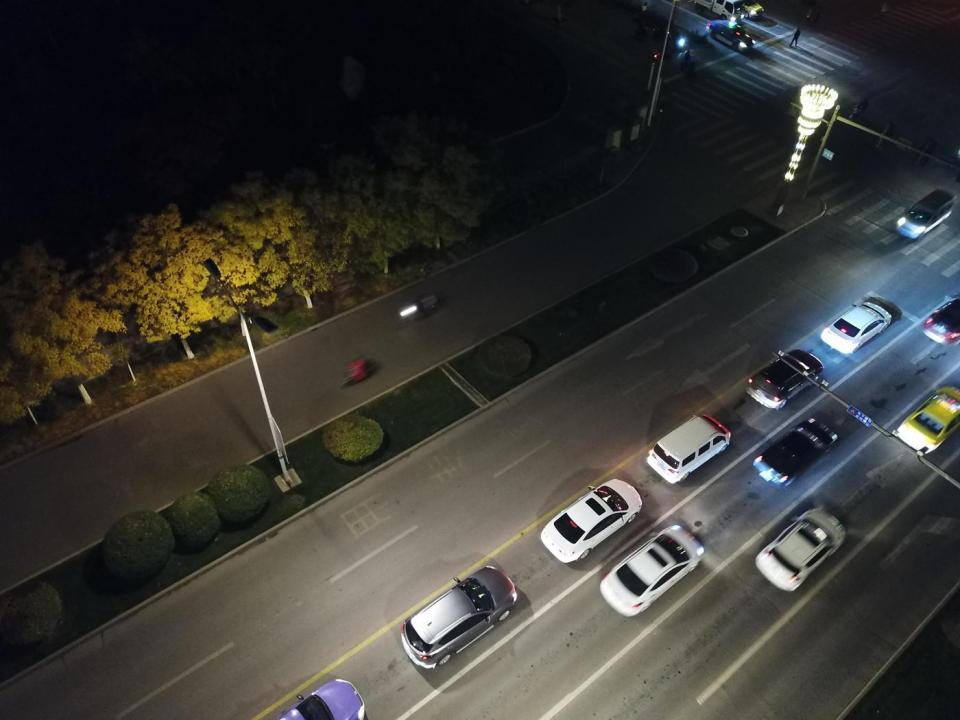car: (399, 567, 516, 671), (597, 526, 704, 617), (539, 480, 644, 562), (752, 508, 845, 593), (752, 418, 837, 482), (894, 384, 960, 453), (820, 298, 892, 356), (281, 679, 366, 720), (923, 298, 960, 346), (706, 18, 754, 53), (732, 0, 764, 18)
truck: (682, 0, 747, 23)
van: (646, 413, 731, 485), (894, 190, 954, 239)
